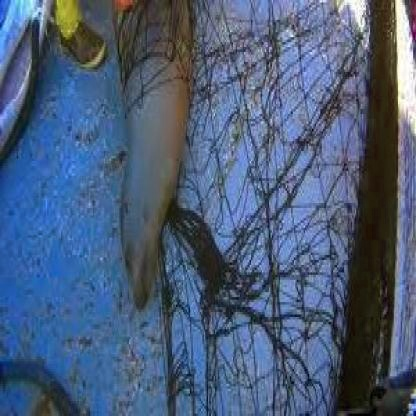net: (160, 2, 360, 416)
